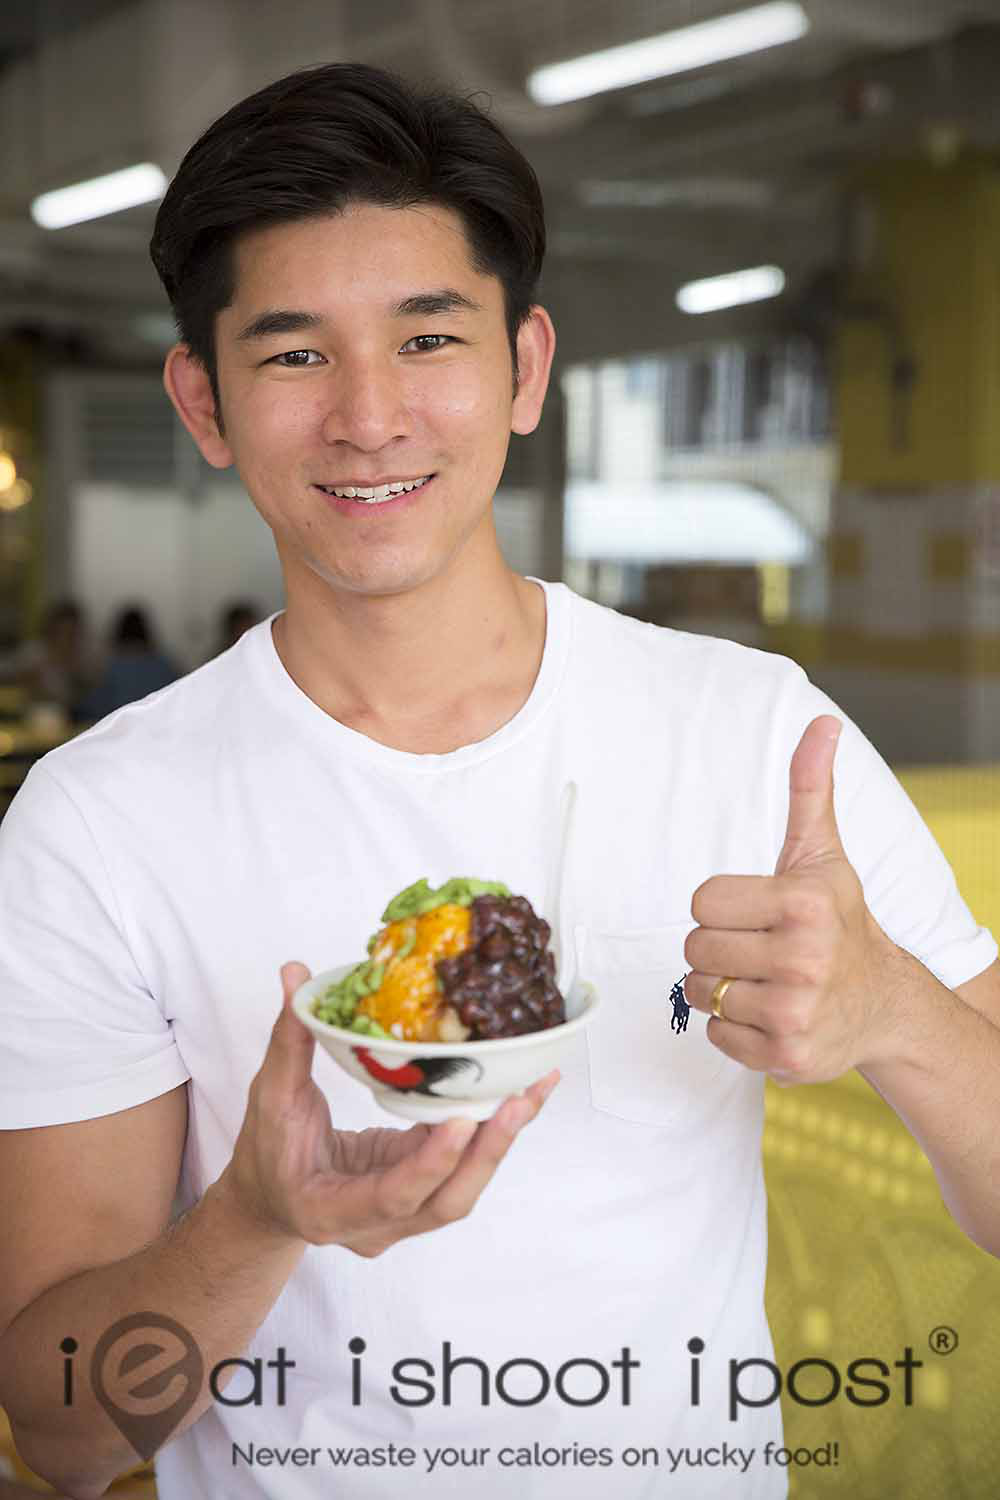Chendol: (272, 869, 607, 1104)
